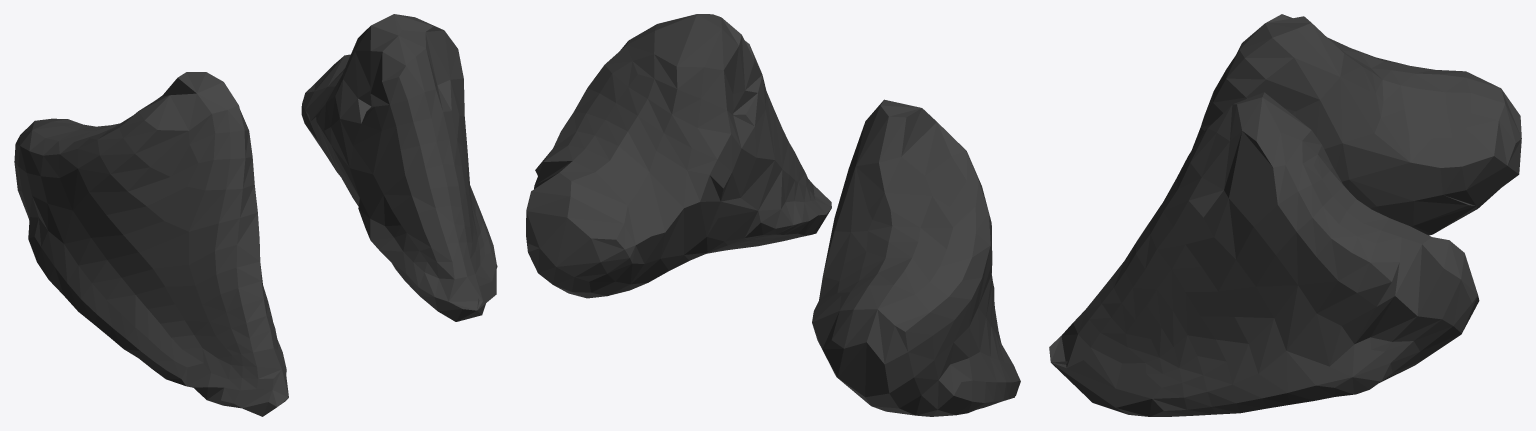
Rendered from P3s_bone_P3s_bone.glb.
3 renders of one model, left to right at view 1: azimuth 30°, elevation 25°; view 2: azimuth 150°, elevation 25°; view 3: azimuth 270°, elevation 25°, orthographic. The views are drawn at different scales.
Visible parts, largest first — view 1: P3s_bone_P3s_bone; view 2: P3s_bone_P3s_bone; view 3: P3s_bone_P3s_bone.
Boxes of the visible parts, x1,y1,x2,y2 form: P3s_bone_P3s_bone: (14, 14, 497, 416); P3s_bone_P3s_bone: (526, 14, 1020, 416); P3s_bone_P3s_bone: (1049, 14, 1521, 416).
Bounding box in the file's own units: 0.128 × 0.0978 × 0.1155.
1 material, 1 textured.
